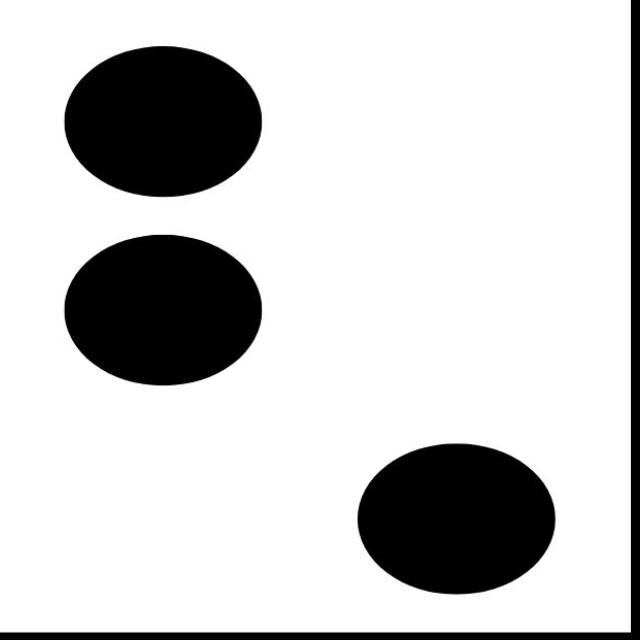ng: (63, 39, 557, 595)
